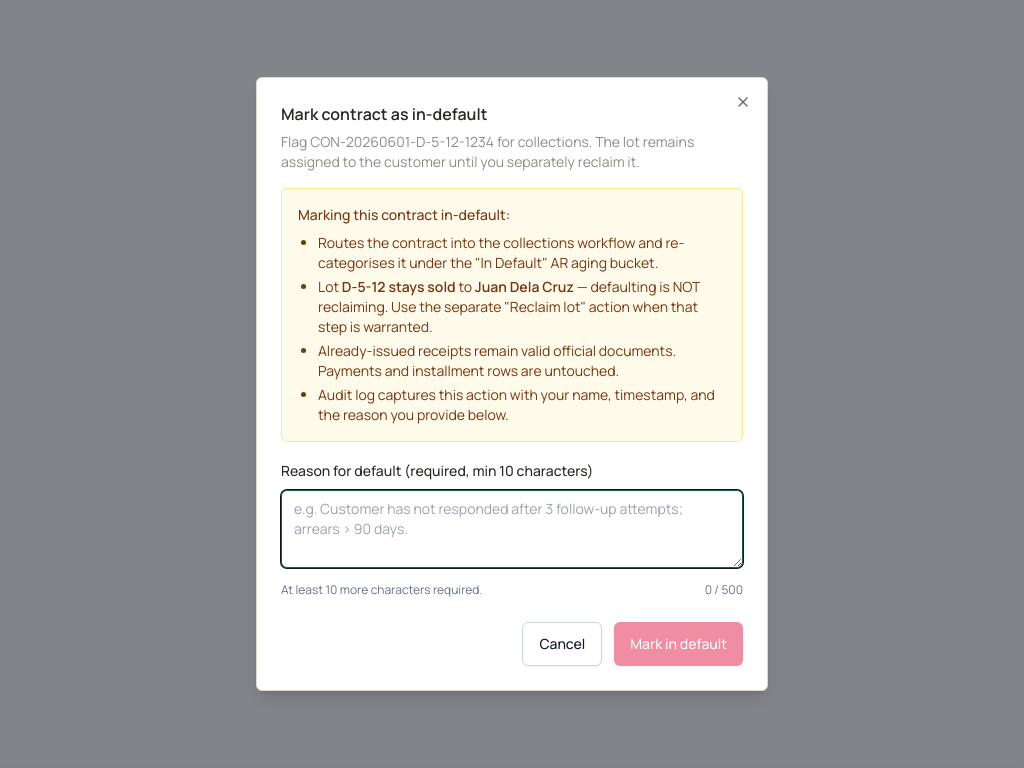
Test case: MarkInDefaultDialog › disables the confirm button until the reason is at least 10 chars after trim
Expected: the button with test id "mark-in-default-confirm" is disabled, [614, 622, 743, 666]
Type "too short" into the text box with test id "mark-in-default-reason" at (512, 529), box [281, 490, 743, 568]
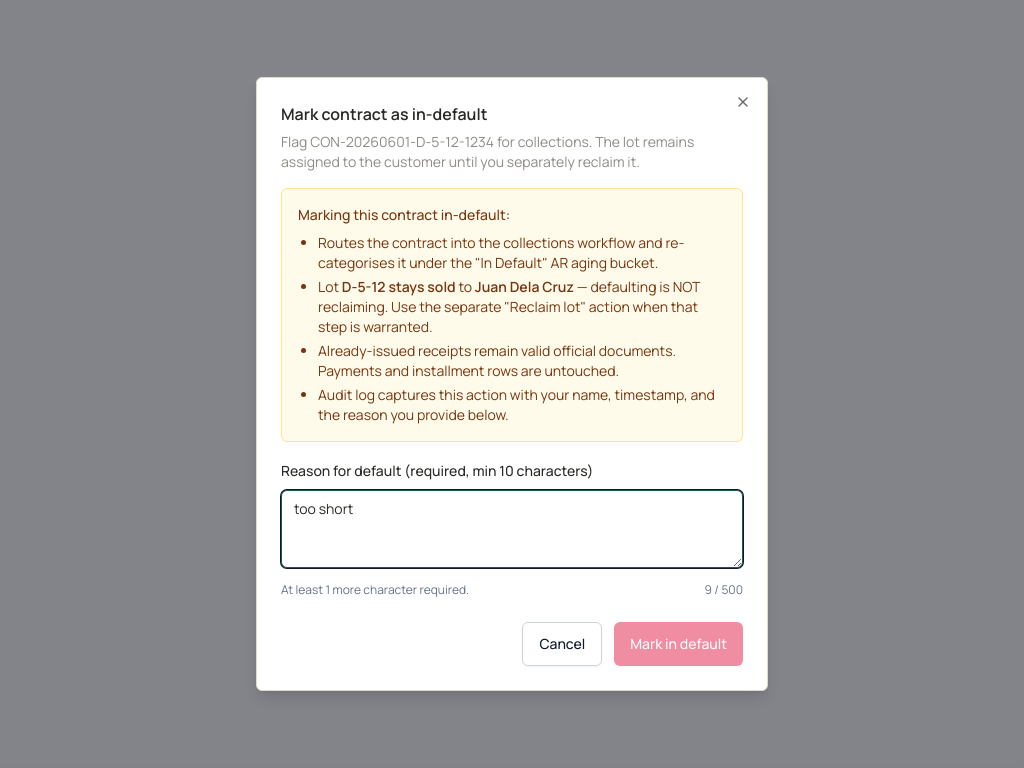
Expected: the button with test id "mark-in-default-confirm" is disabled, [614, 622, 743, 666]
Type " — and now enough" into the text box with test id "mark-in-default-reason" at (512, 529), box [281, 490, 743, 568]
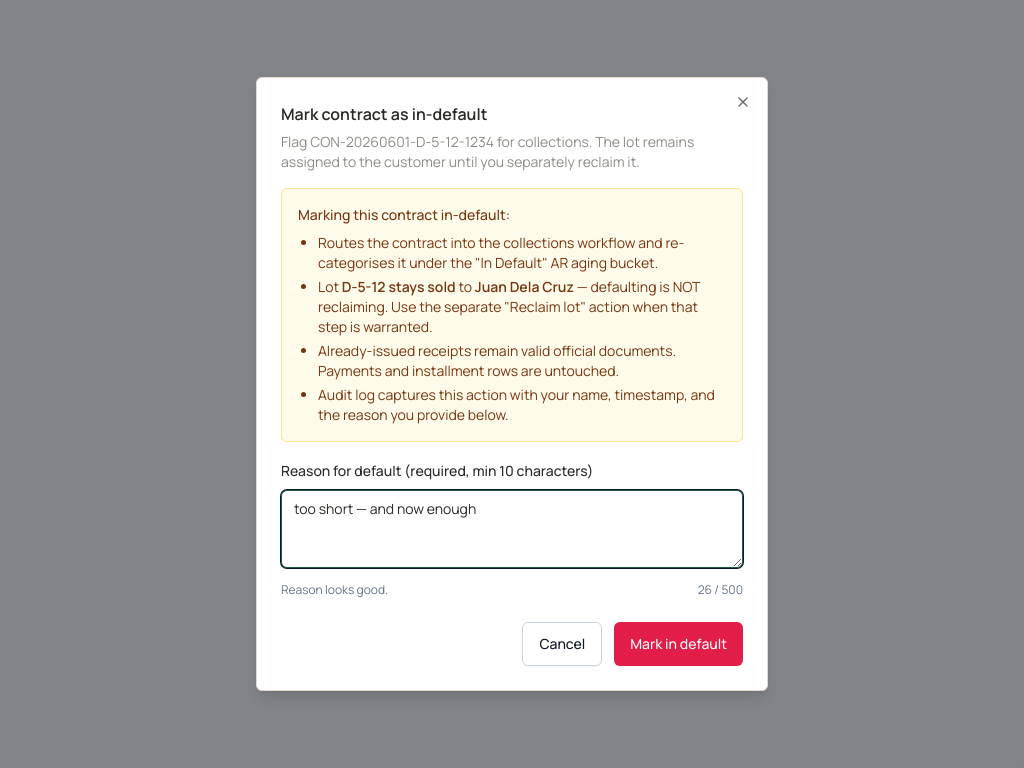
Result: the button with test id "mark-in-default-confirm" is enabled at [614, 622, 743, 666]
